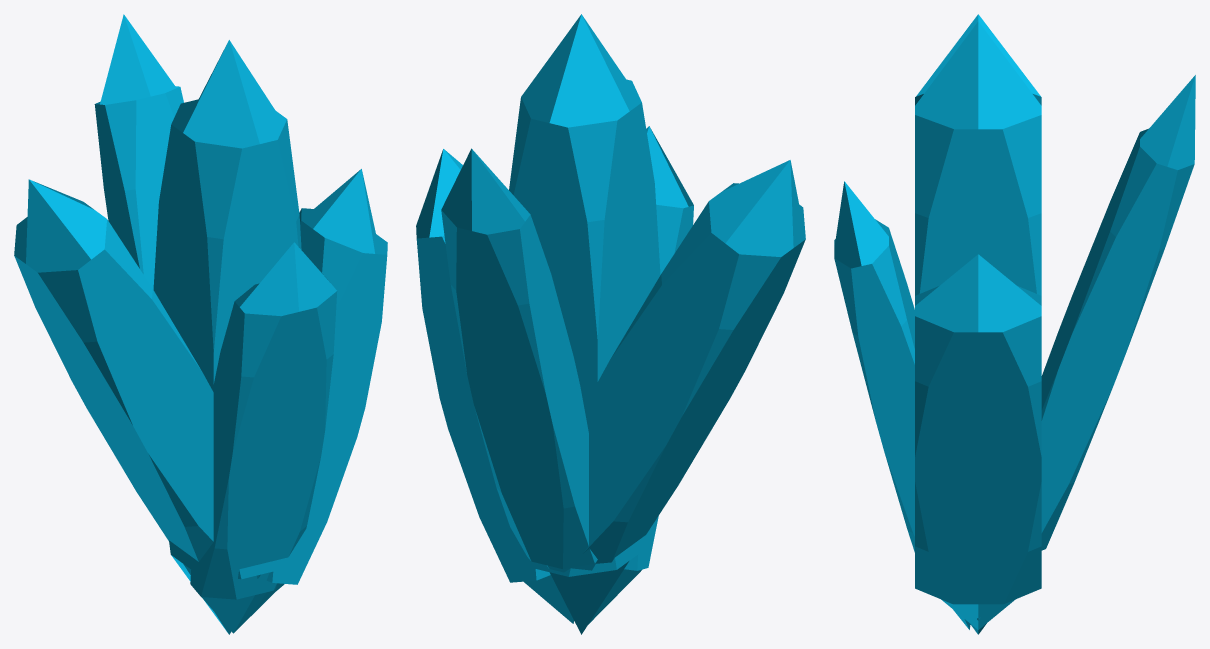
File: crystaux.fbx
3 renders of one model, left to right at view 1: azimuth 30°, elevation 25°; view 2: azimuth 150°, elevation 25°; view 3: azimuth 270°, elevation 25°, orthographic. The views are drawn at different scales.
Visible parts, largest first — view 1: Crystaux.005; view 2: Crystaux.005; view 3: Crystaux.005.
Part boxes in pixels (left/top/right/bottom): Crystaux.005: left=14, top=14, right=387, bottom=634; Crystaux.005: left=416, top=14, right=805, bottom=634; Crystaux.005: left=834, top=14, right=1195, bottom=634.
Bounding box in the file's own units: 21.07 × 34.23 × 18.28.
